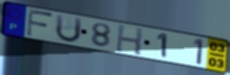1: (192, 38, 205, 67), (156, 33, 169, 60)
8: (90, 22, 113, 48)
F: (25, 8, 55, 39)
H: (114, 23, 145, 57)
U: (54, 14, 84, 44)
